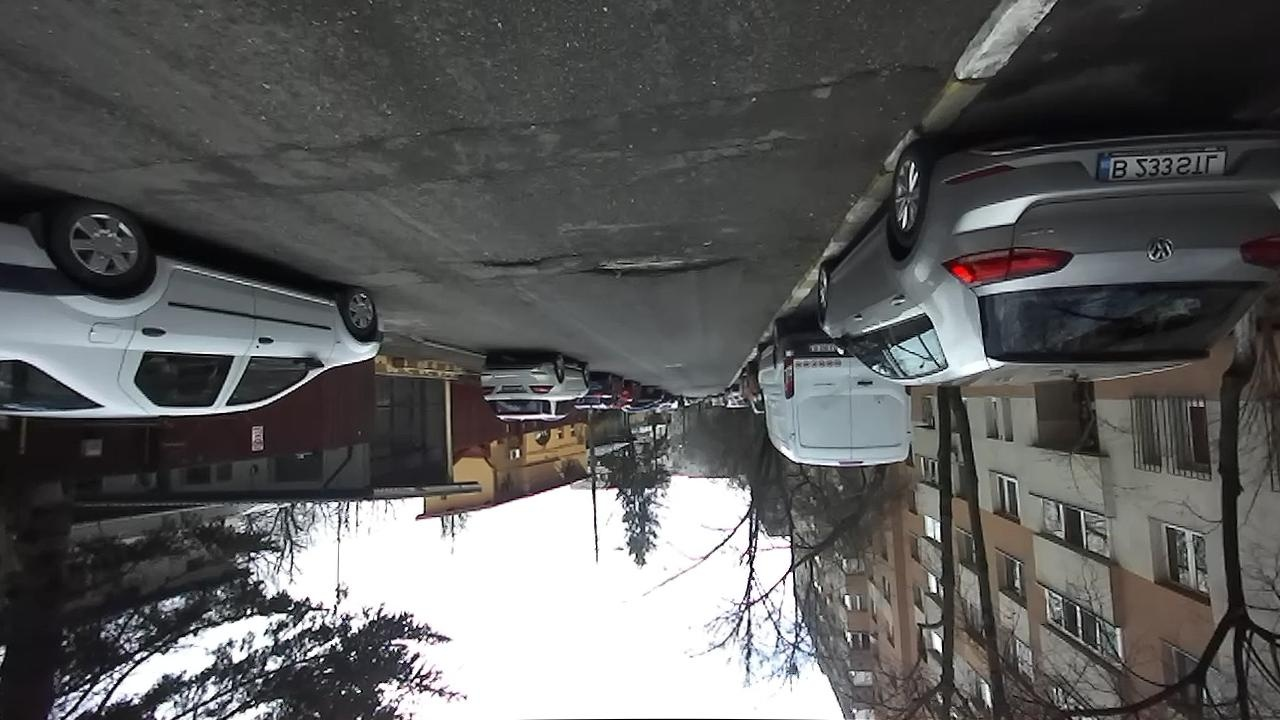pothole: (797, 58, 938, 98), (579, 249, 744, 283), (471, 254, 548, 269)
